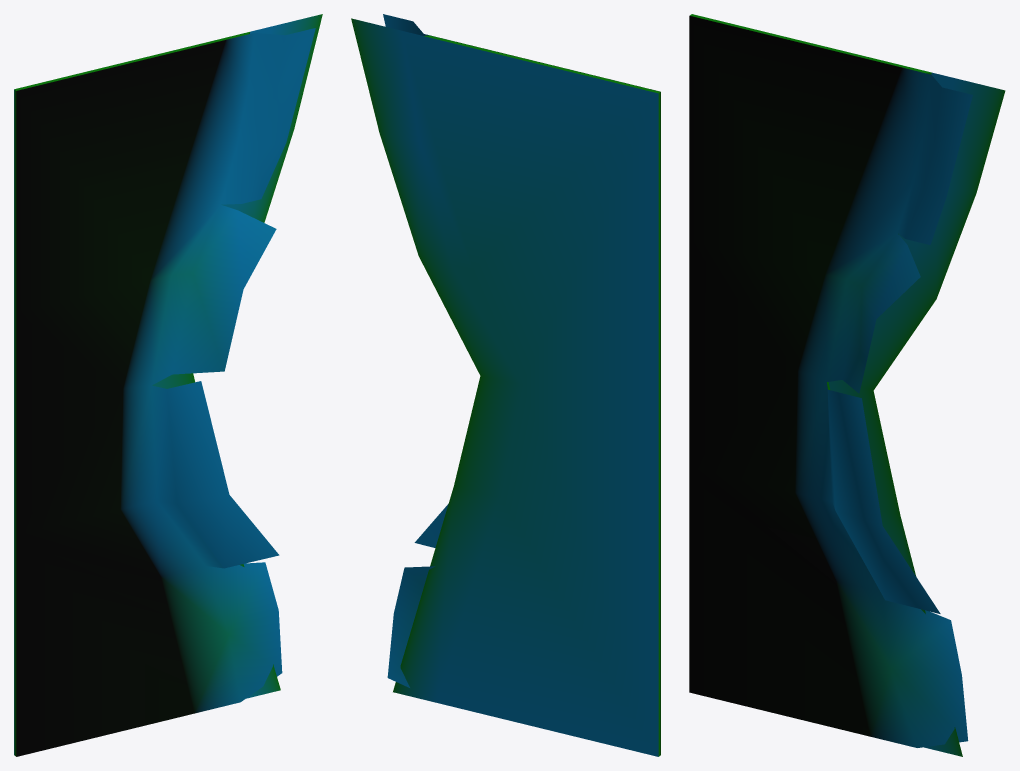
Rendered from DBK_Drywall_Side_D_Single.fbx.
3 renders of one model, left to right at view 1: azimuth 30°, elevation 25°; view 2: azimuth 150°, elevation 25°; view 3: azimuth 330°, elevation 25°, orthographic.
Parts seen in each view (by area): view 1: DBK_Drywall_Side_D_Single; view 2: DBK_Drywall_Side_D_Single; view 3: DBK_Drywall_Side_D_Single.
Part boxes in pixels (left/top/right/bottom): DBK_Drywall_Side_D_Single: left=14, top=14, right=322, bottom=756; DBK_Drywall_Side_D_Single: left=351, top=14, right=660, bottom=756; DBK_Drywall_Side_D_Single: left=689, top=14, right=1005, bottom=756.
Size of what is drawn, in the model's own units: 145 by 300 by 21.2.
